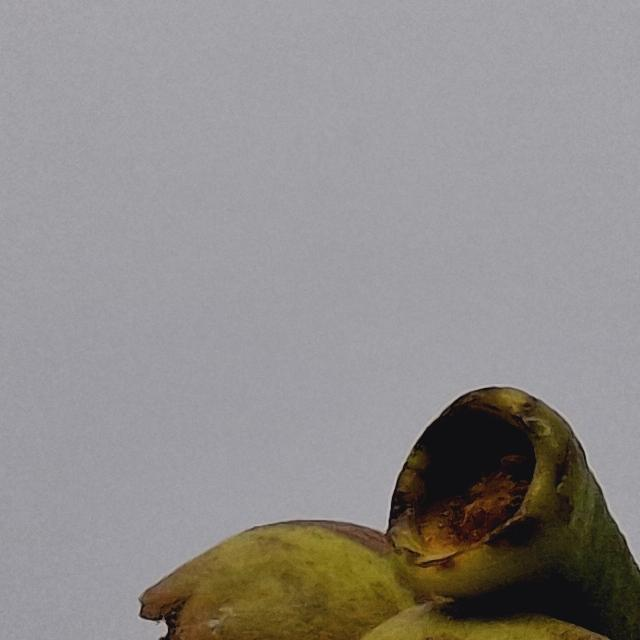mangosteen: (0, 335, 640, 640)
